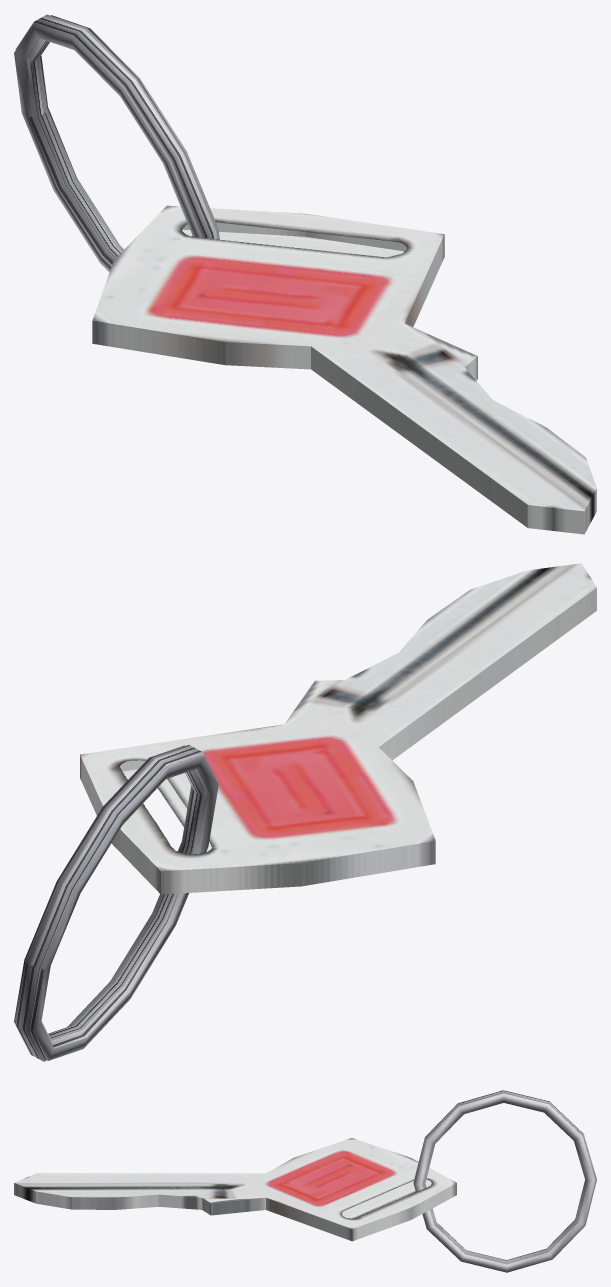
File: key_square1.fbx
The picture shows the model from 3 angles, top to bottom: view 1: azimuth 30°, elevation 25°; view 2: azimuth 150°, elevation 25°; view 3: azimuth 270°, elevation 25°; orthographic projection. The views are drawn at different scales.
Visible parts, largest first — view 1: key_square1; view 2: key_square1; view 3: key_square1.
Boxes of the visible parts, bbox=[...] form: key_square1: bbox=[14, 14, 596, 534]; key_square1: bbox=[14, 563, 596, 1061]; key_square1: bbox=[14, 1090, 596, 1272].
Size of the model in its own units: 10.06 by 8.32 by 27.16.
1 material, 1 textured.
